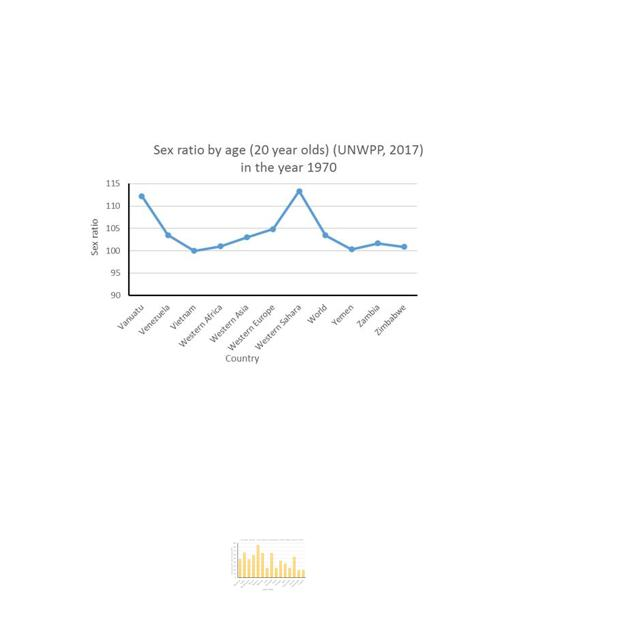Graph: (88, 141, 425, 366), (229, 538, 307, 593)
